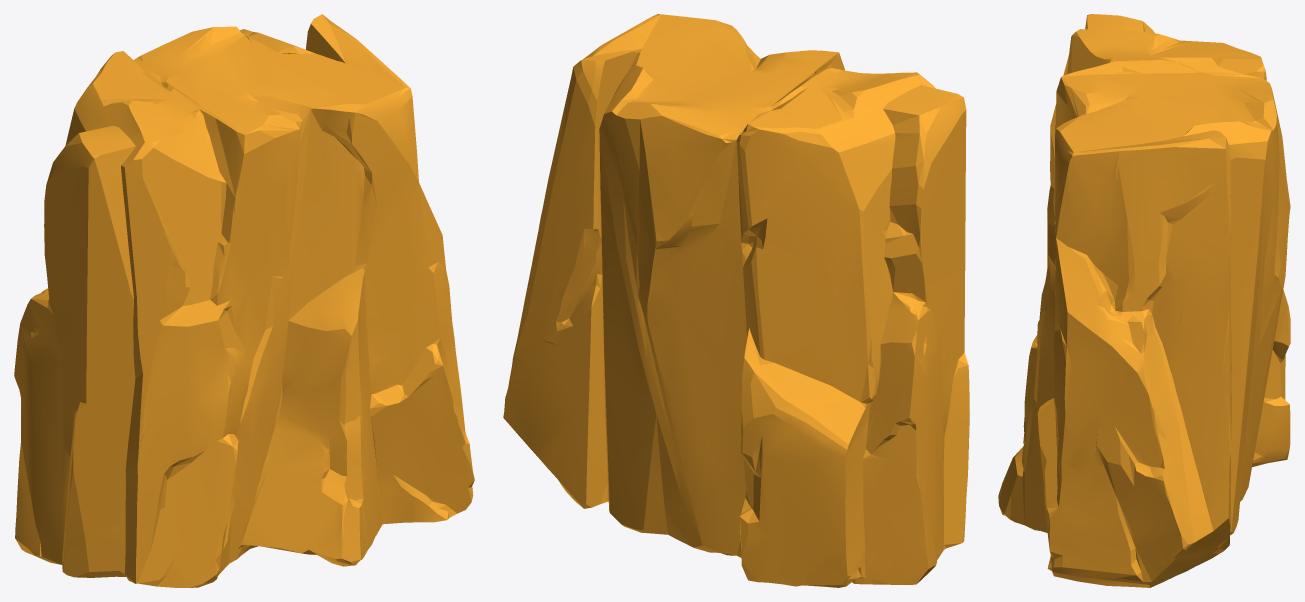
Rendered from SM_Iceberg_Big_B_Plane.fbx.
3 views of the same model, side by side, from view 1: azimuth 30°, elevation 25°; view 2: azimuth 150°, elevation 25°; view 3: azimuth 270°, elevation 25° (orthographic). The views are drawn at different scales.
Parts seen in each view (by area): view 1: iceberg-big-b-plane; view 2: iceberg-big-b-plane; view 3: iceberg-big-b-plane.
Part boxes in pixels (x1,y1,x2,y2): iceberg-big-b-plane: [14, 14, 474, 587]; iceberg-big-b-plane: [503, 14, 969, 587]; iceberg-big-b-plane: [998, 14, 1290, 587].
Size of the model in its own units: 23.54 by 24.04 by 15.01.
